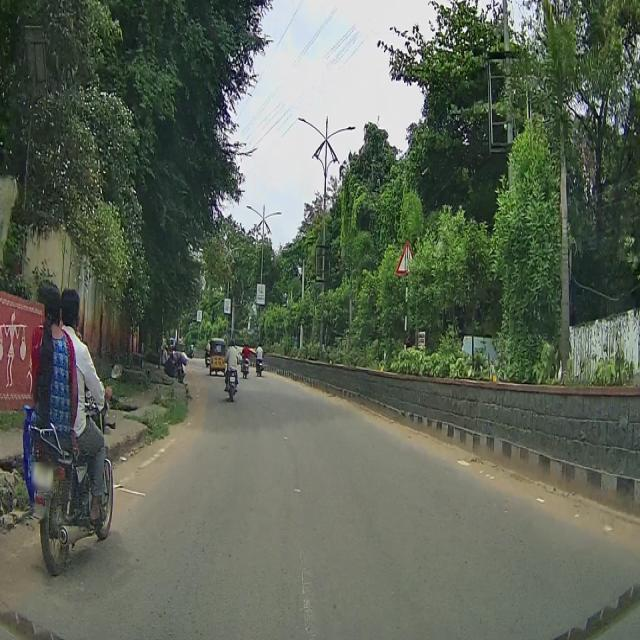gap-in-median: (396, 242, 416, 272)
